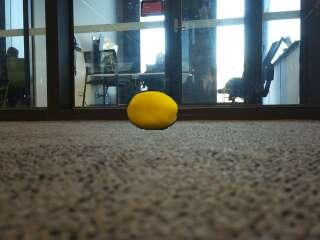lemon: (127, 91, 178, 130)
